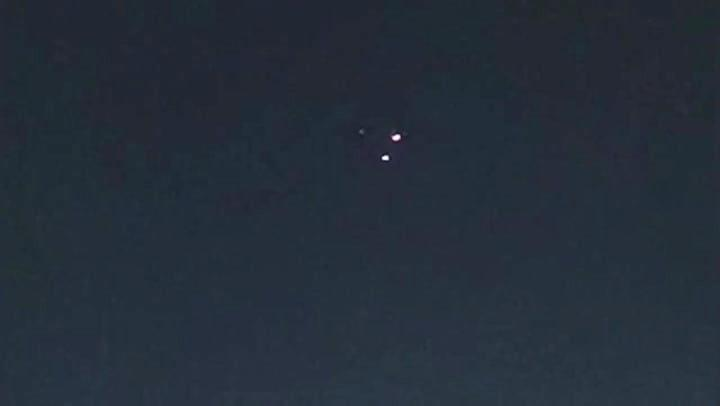Plane: (371, 119, 415, 175)
